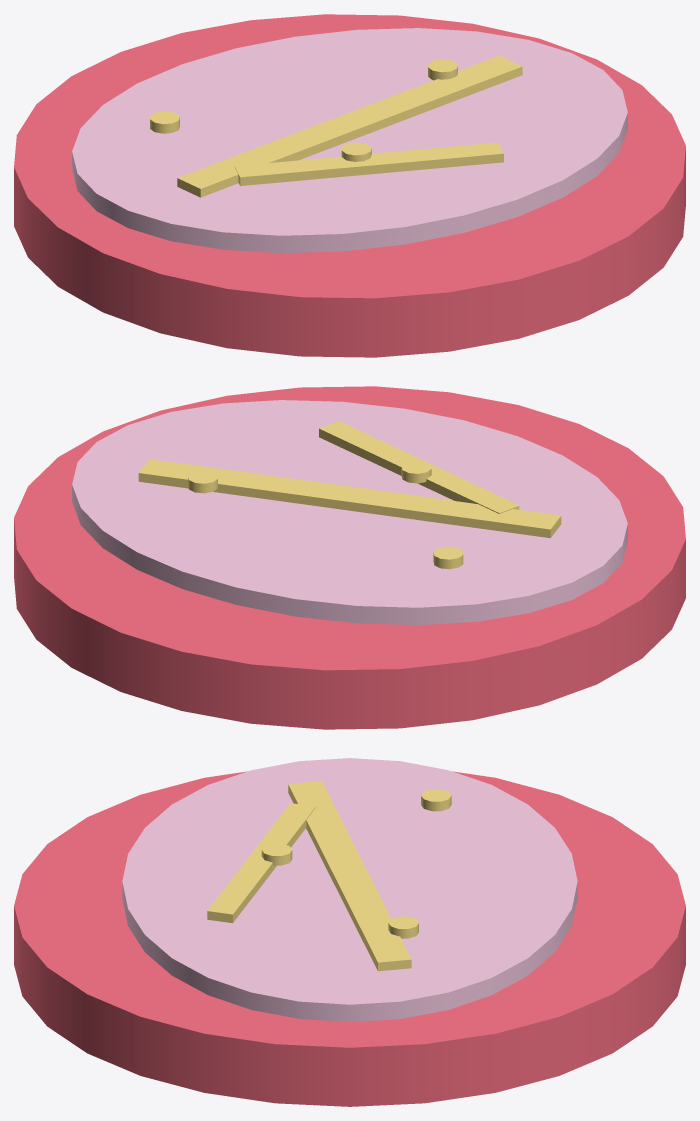
Rendered from toy_gummy_sticky_pad.glb.
3 views of the same model, one above another, from view 1: azimuth 30°, elevation 25°; view 2: azimuth 150°, elevation 25°; view 3: azimuth 270°, elevation 25° (orthographic).
Parts seen in each view (by area): view 1: solid_1, solid_2, solid_3, solid_4, solid_5, solid_6; view 2: solid_1, solid_2, solid_3, solid_4, solid_5, solid_6, solid_7; view 3: solid_1, solid_2, solid_3, solid_4, solid_5, solid_7, solid_6.
Part boxes in pixels (bbox=[...]): solid_1: bbox=[14, 14, 685, 357]; solid_2: bbox=[72, 28, 627, 253]; solid_3: bbox=[177, 55, 522, 197]; solid_4: bbox=[234, 142, 503, 185]; solid_5: bbox=[150, 111, 179, 133]; solid_6: bbox=[428, 59, 457, 80]; solid_1: bbox=[14, 386, 685, 729]; solid_2: bbox=[72, 400, 627, 625]; solid_3: bbox=[138, 459, 561, 538]; solid_4: bbox=[319, 421, 519, 513]; solid_5: bbox=[433, 546, 463, 569]; solid_6: bbox=[188, 471, 217, 493]; solid_7: bbox=[401, 461, 431, 483]; solid_1: bbox=[14, 771, 685, 1106]; solid_2: bbox=[122, 758, 577, 1021]; solid_3: bbox=[288, 781, 411, 971]; solid_4: bbox=[207, 803, 315, 923]; solid_5: bbox=[421, 789, 451, 811]; solid_7: bbox=[261, 843, 292, 865]; solid_6: bbox=[388, 916, 418, 938].
Size of the model in its own units: 3.5 by 0.5775 by 3.5.
